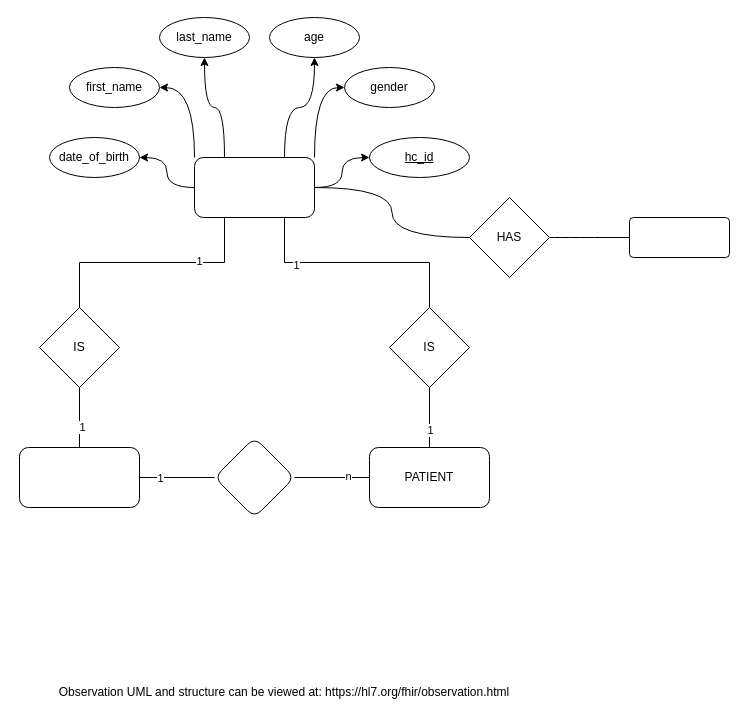
The diagram is 747 pixels wide and 725 high, and some of its shapes have lost their labels. The shapes that lost their labels are listed below. From the top down, each one's centre as x and y in pixels, then its label:
[254,187]: USER
[679,237]: Observation*
[79,477]: LICENSED_PERSONA
[254,477]: is assigned to
